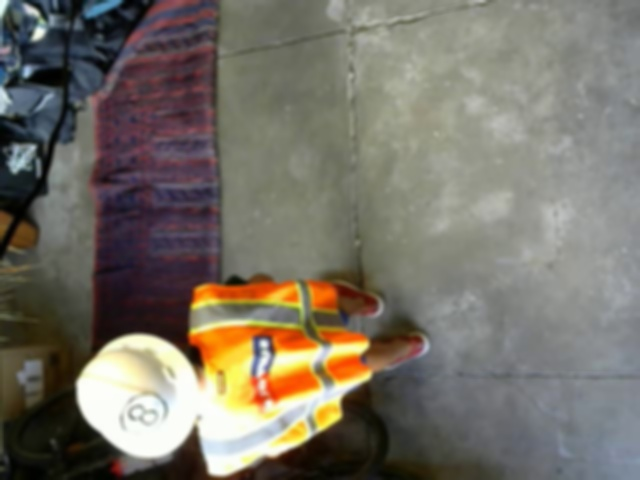eight: (119, 393, 167, 438)
